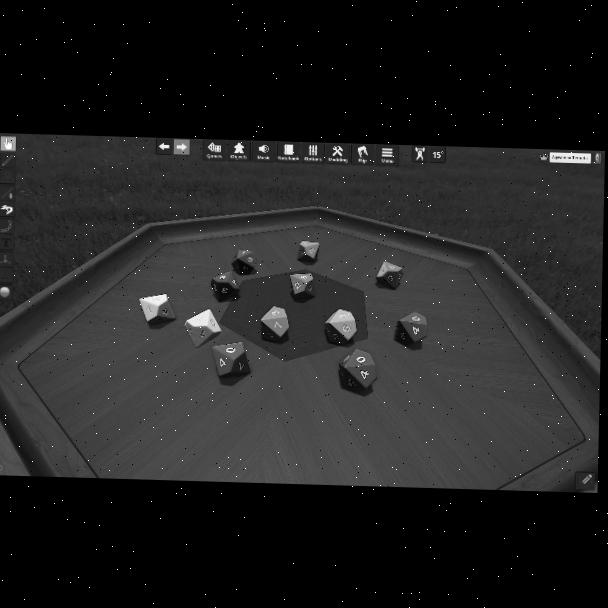d10: (338, 349, 376, 393), (213, 342, 252, 379), (185, 308, 221, 348), (139, 294, 177, 326), (323, 309, 353, 346), (397, 311, 427, 347), (209, 271, 240, 303), (261, 306, 289, 341), (375, 261, 403, 290), (231, 250, 258, 275), (290, 273, 314, 299), (298, 241, 319, 263)
